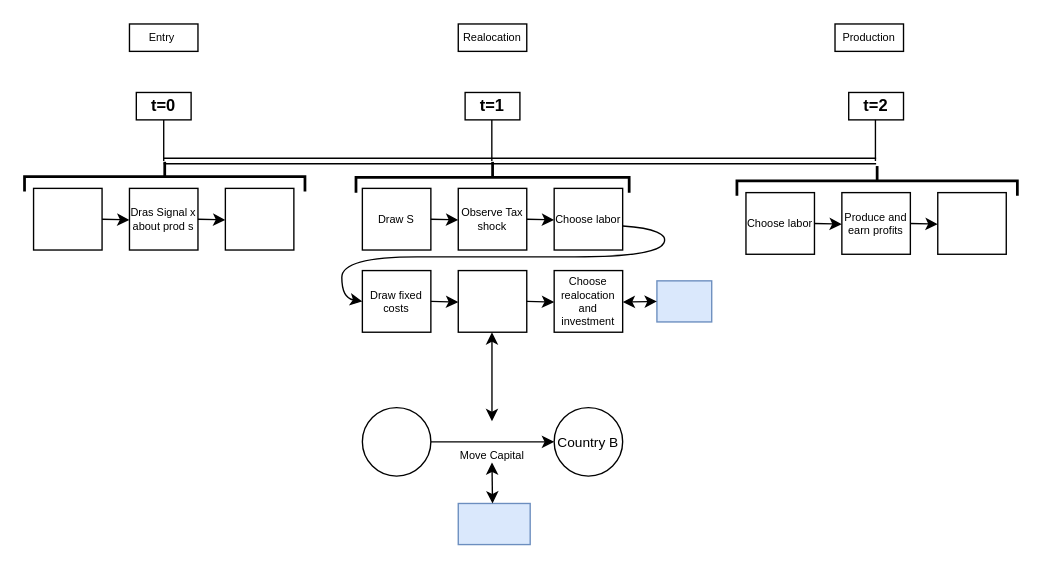
Some shapes in this 1043 by 569 pixel diagram are drawn without their labels. Each missing label, with the centre of its shape:
Choose Exit, Stay, relocate: pixel 492 300
Choose to enter H or F cost C_E: pixel 259 218
Convex adj costs: pixel 684 300
Convex moving costs: pixel 493 523
Country A: pixel 396 441
Mass M potential entrants: pixel 67 218
Pay fixed cost per market: pixel 971 222
